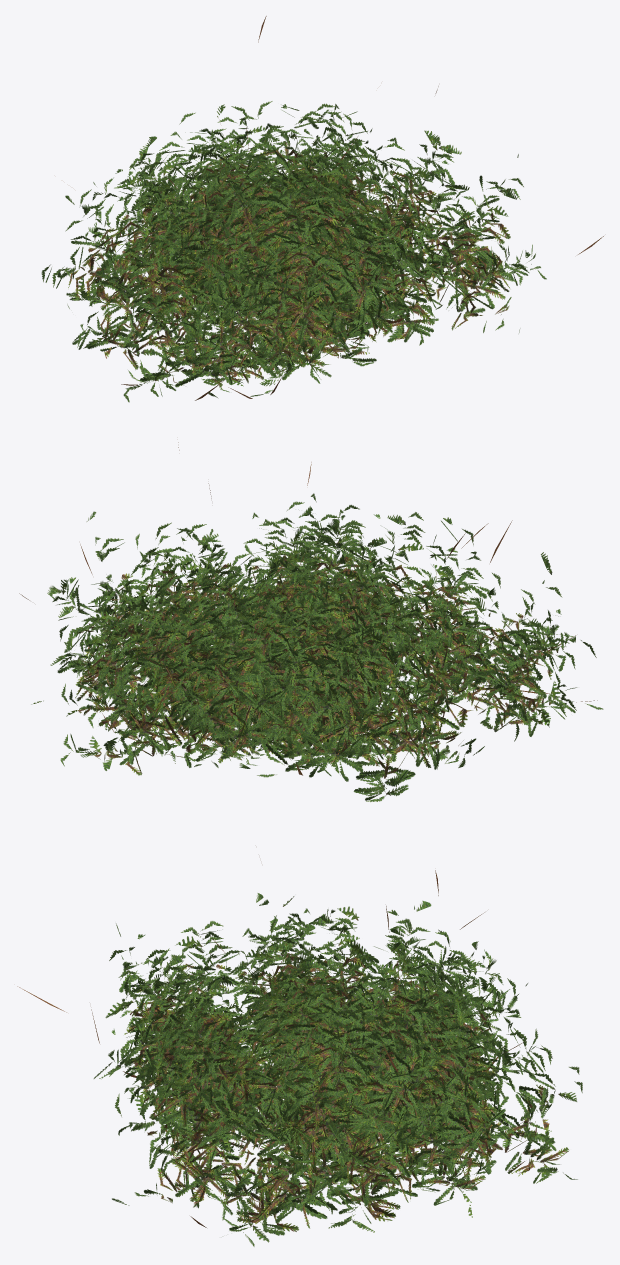
Rendered from buisson-1.glb.
3 views of the same model, one above another, from view 1: azimuth 30°, elevation 25°; view 2: azimuth 150°, elevation 25°; view 3: azimuth 270°, elevation 25° (orthographic). The views are drawn at different scales.
Parts seen in each view (by area): view 1: bush; view 2: bush; view 3: bush.
Boxes of the visible parts, x1,y1,x2,y2 form: bush: (41, 16, 603, 402); bush: (19, 442, 603, 801); bush: (17, 870, 582, 1246).
Bounding box in the file's own units: 0.8719 × 0.4166 × 0.788.
Materials: 2 (2 with a texture image).
